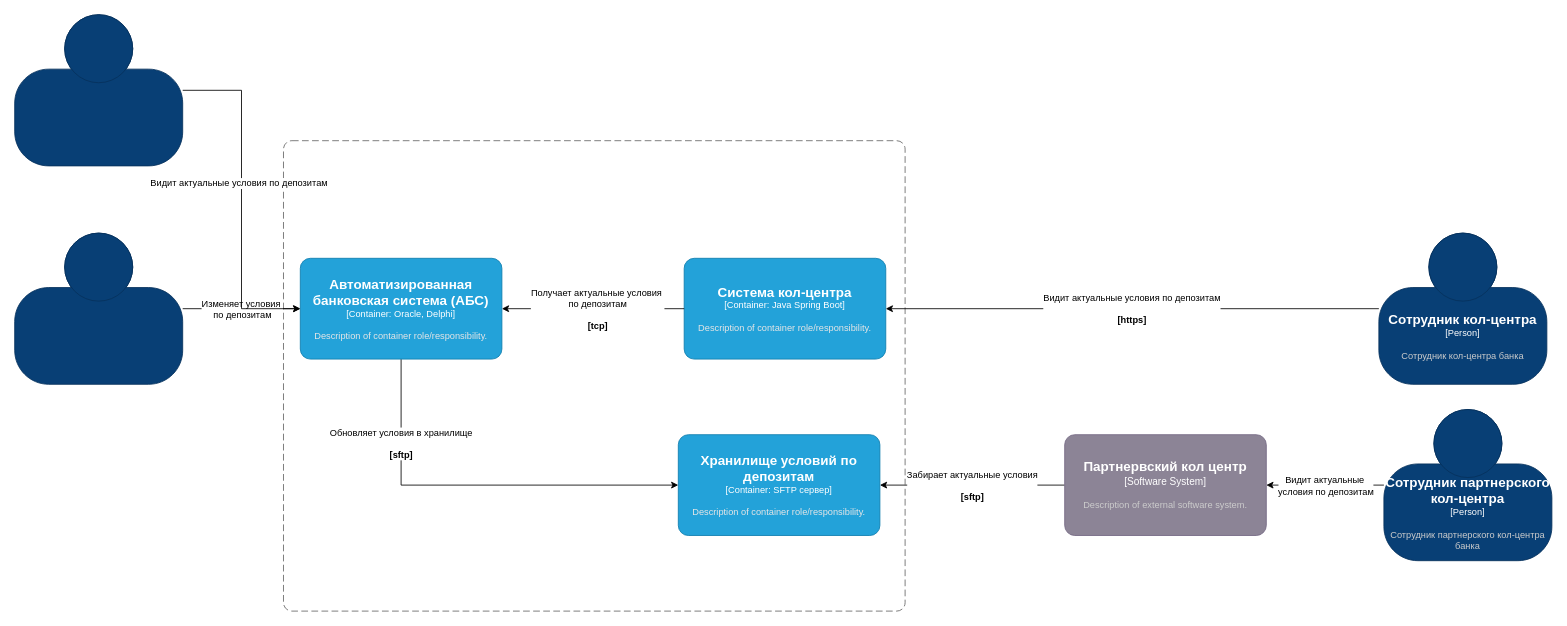
Some shapes in this 1567 by 626 pixel diagram are drawn without their labels. Here are the shapes that lost their labels. From the top down, the box of each, then its label:
(14, 14, 183, 166): Менеджер фронт-офиса [Person] Сотрудники, которые работают в отделениях банка
(14, 232, 183, 384): Менеджеры бэк-офиса [Person] Специалисты по кредитам и депозитам
(283, 140, 905, 611): Банк Стандарт [Software System]
